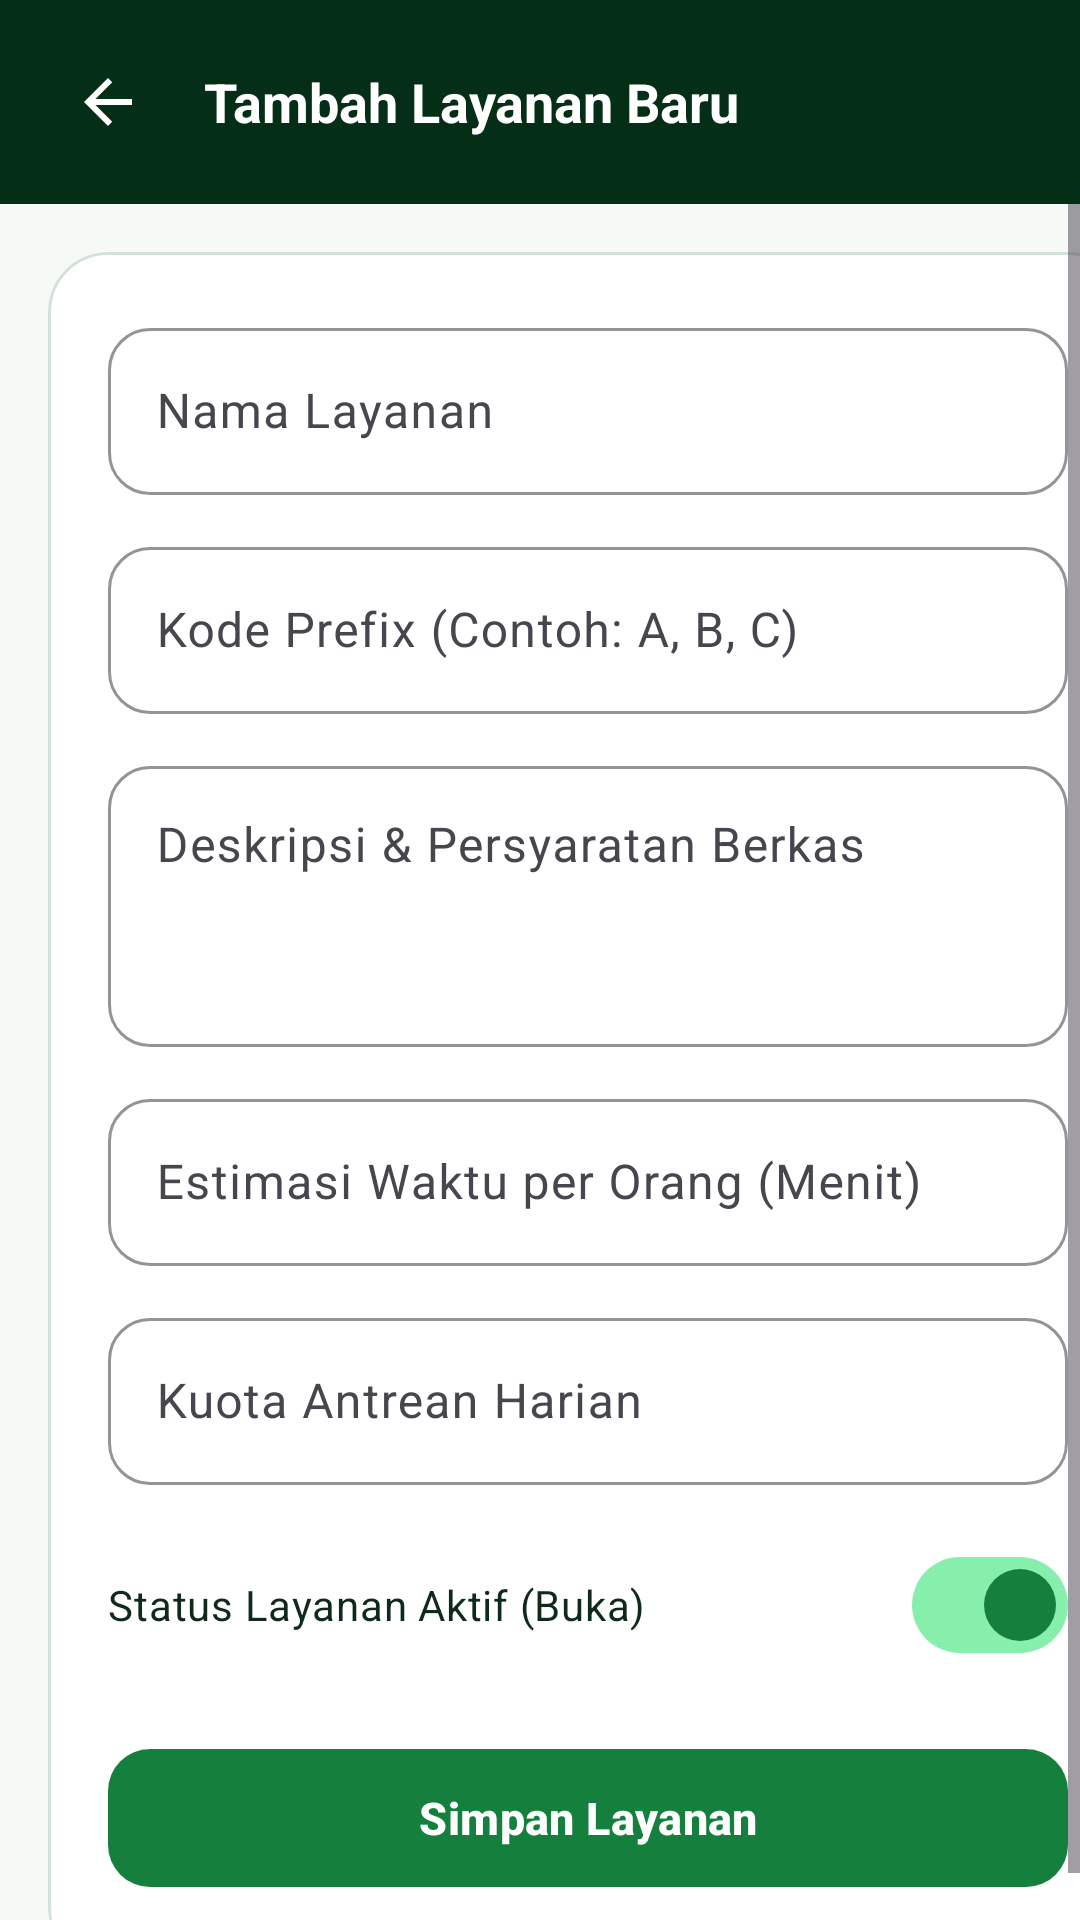

Icons on this 1080px×1920px Android screen, each with its box as (x1, y1, x2, y2):
Kembali ke Halaman Masuk: (84, 78, 132, 126)
